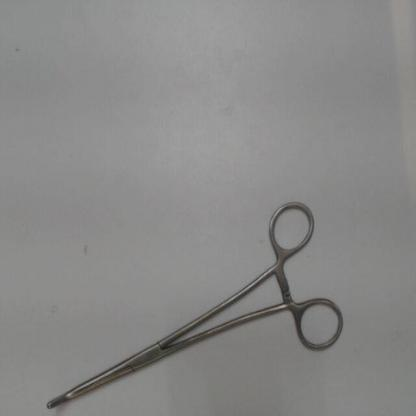Lahey Forceps: (41, 192, 353, 414)
